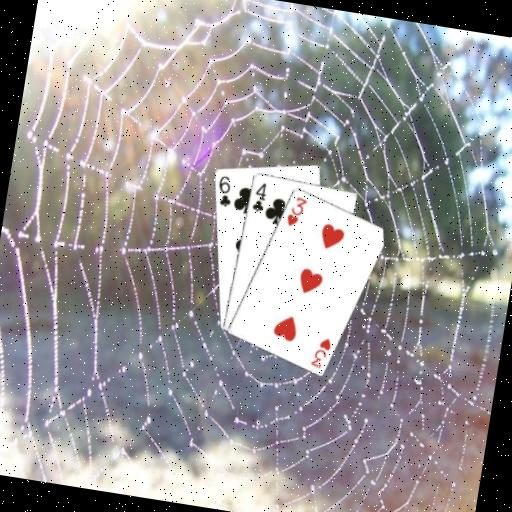3H: (282, 191, 309, 229), (306, 332, 333, 370)
4C: (248, 178, 269, 214)
6C: (212, 170, 236, 208)
